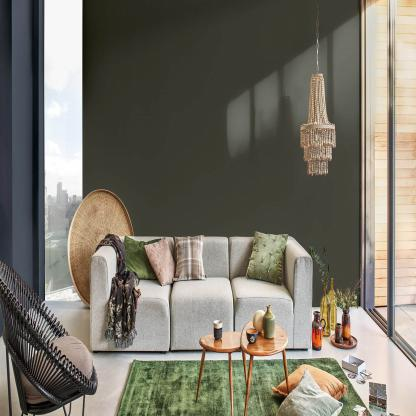bantal: (275, 374, 338, 416), (252, 232, 281, 281), (175, 235, 206, 280), (146, 243, 175, 282)
gelas: (210, 319, 225, 339), (245, 326, 258, 346)
kursi: (2, 258, 100, 416)
sova: (90, 235, 312, 355)
